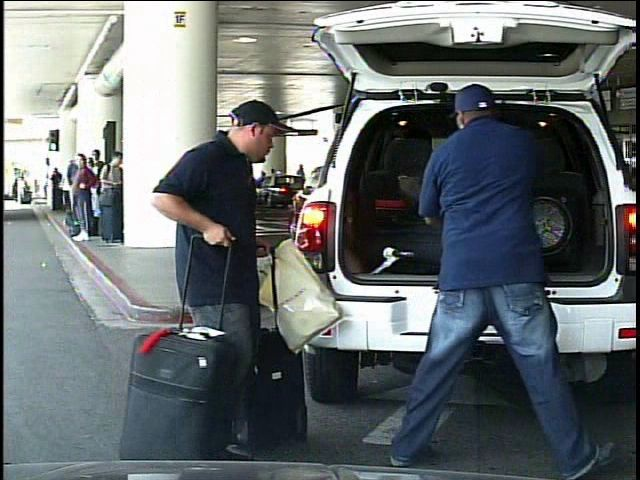person: (367, 76, 597, 478), (135, 98, 281, 461), (293, 162, 308, 200), (16, 173, 27, 204)
